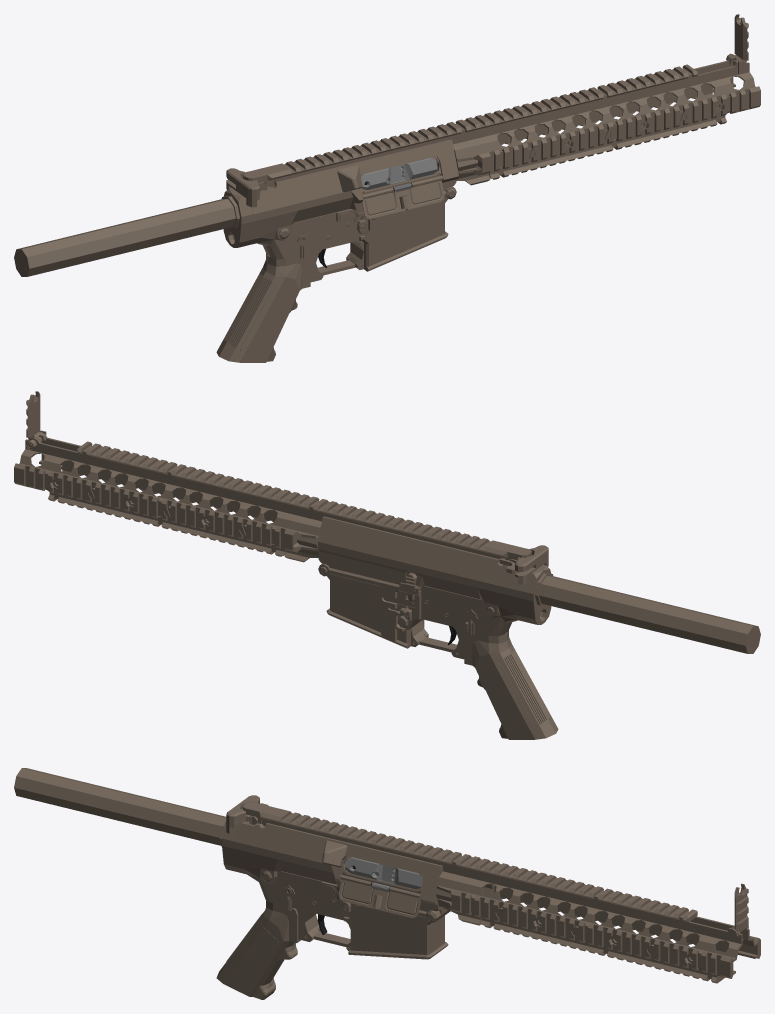
Rendered from m110_sass.glb.
The picture shows the model from 3 angles, top to bottom: view 1: azimuth 30°, elevation 25°; view 2: azimuth 150°, elevation 25°; view 3: azimuth 330°, elevation 25°; orthographic projection.
Parts seen in each view (by area): view 1: m110 handguard_13, m110 lower_14, m110 upper _21, m110 grip_12, m110 dust cover_10, m110 bolt_6, m110 charging handle_9; view 2: m110 handguard_13, m110 lower_14, m110 upper _21, m110 grip_12, m110 charging handle_9; view 3: m110 handguard_13, m110 lower_14, m110 upper _21, m110 grip_12, m110 dust cover_10, m110 bolt_6, m110 charging handle_9.
Part boxes in pixels (x1,y1,x2,y2): m110 handguard_13: [444, 14, 760, 185]; m110 lower_14: [14, 186, 456, 282]; m110 upper _21: [243, 124, 458, 228]; m110 grip_12: [216, 253, 310, 362]; m110 dust cover_10: [362, 175, 444, 218]; m110 bolt_6: [361, 158, 438, 189]; m110 charging handle_9: [226, 168, 266, 207]; m110 handguard_13: [14, 391, 330, 562]; m110 lower_14: [318, 563, 760, 659]; m110 upper _21: [318, 501, 531, 605]; m110 grip_12: [464, 630, 558, 739]; m110 charging handle_9: [499, 545, 548, 584]; m110 handguard_13: [436, 852, 760, 983]; m110 lower_14: [14, 768, 448, 959]; m110 upper _21: [233, 802, 452, 919]; m110 grip_12: [216, 900, 300, 999]; m110 dust cover_10: [338, 874, 420, 918]; m110 bolt_6: [344, 857, 422, 889]; m110 charging handle_9: [226, 795, 268, 833].
Size of the model in its own units: 7.65 by 2.28 by 0.5904.
